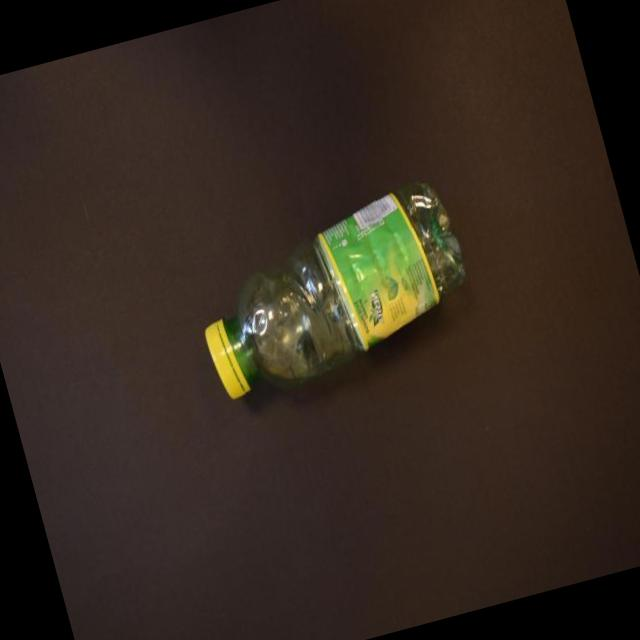plastic_bottle: (180, 172, 483, 402)
